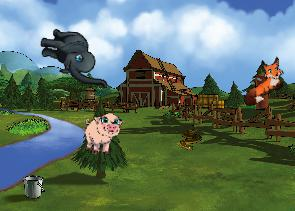elephant: (37, 28, 110, 88)
fox: (231, 53, 293, 109)
pig: (80, 110, 124, 157)
